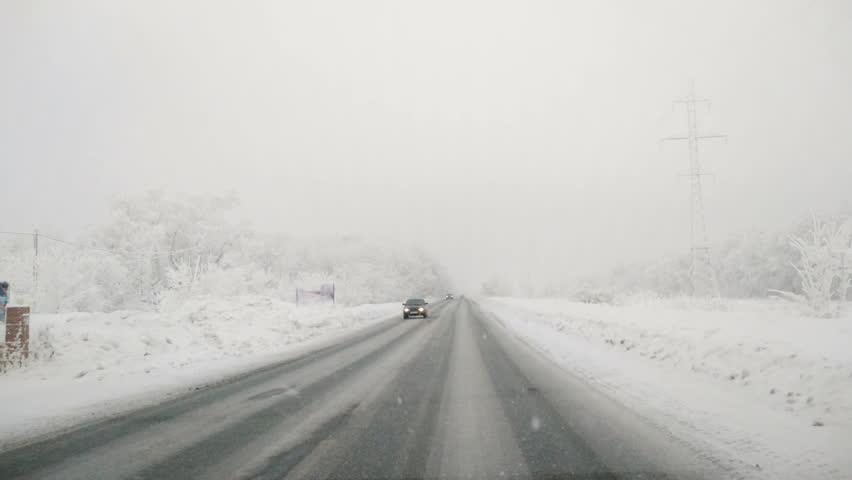car: (402, 298, 429, 320), (445, 292, 455, 301)
